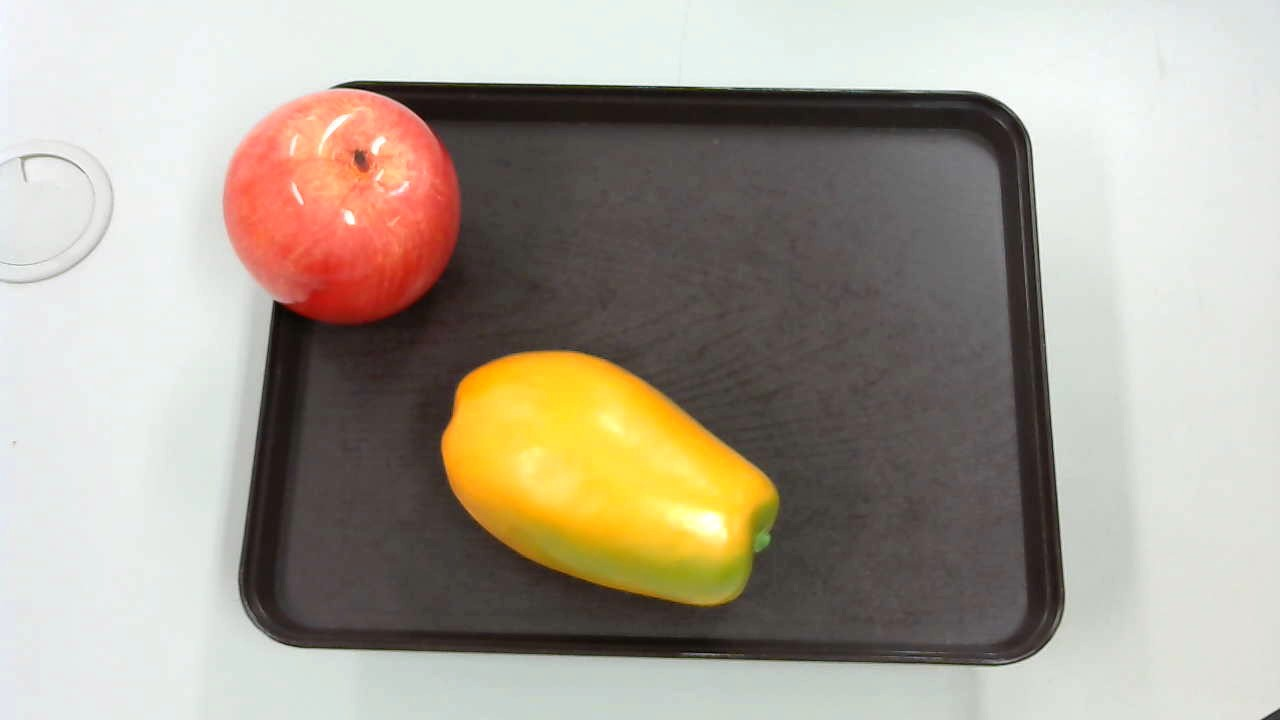papya: (438, 349, 782, 613)
red apple: (224, 91, 459, 324)
